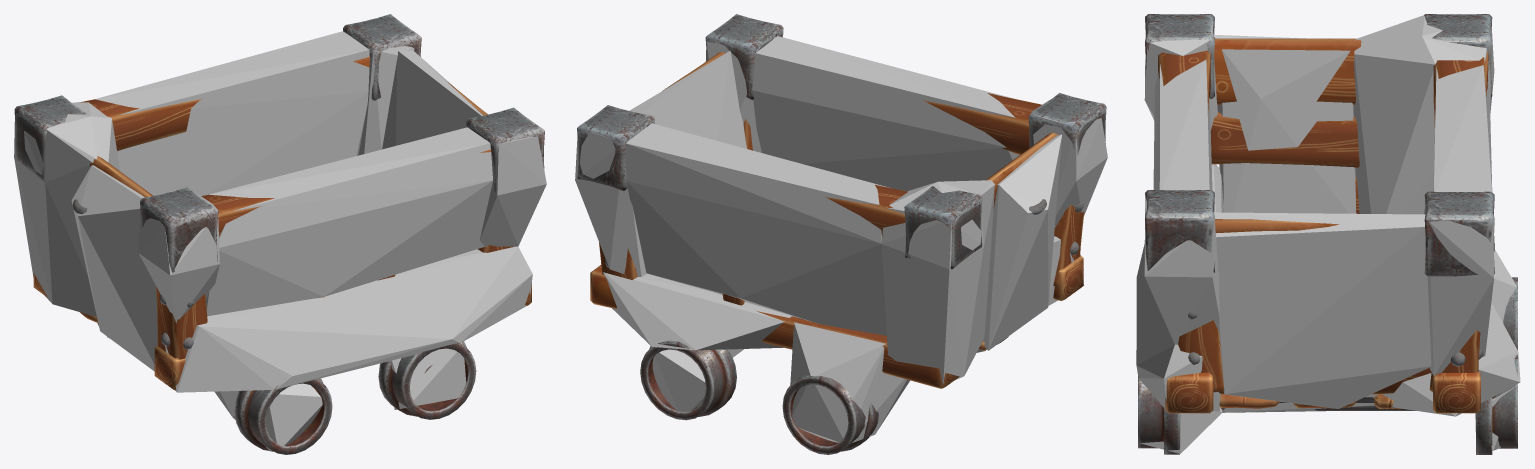
Rendered from SM_Trolley_d.fbx.
The picture shows the model from 3 angles, left to right: view 1: azimuth 30°, elevation 25°; view 2: azimuth 150°, elevation 25°; view 3: azimuth 270°, elevation 25°; orthographic projection. The views are drawn at different scales.
Visible parts, largest first — view 1: SM_Trolley_d_ConvexHulls, SM_Trolley_d; view 2: SM_Trolley_d_ConvexHulls, SM_Trolley_d; view 3: SM_Trolley_d_ConvexHulls, SM_Trolley_d.
Boxes of the visible parts, left/top/right/bottom form: SM_Trolley_d_ConvexHulls: left=14, top=31, right=546, bottom=450; SM_Trolley_d: left=14, top=14, right=544, bottom=454; SM_Trolley_d_ConvexHulls: left=575, top=36, right=1107, bottom=442; SM_Trolley_d: left=577, top=14, right=1106, bottom=454; SM_Trolley_d_ConvexHulls: left=1136, top=15, right=1520, bottom=453; SM_Trolley_d: left=1138, top=14, right=1517, bottom=454.
Bounding box in the file's own units: 178 × 135 × 115.
Materials: 2 (1 with a texture image).
